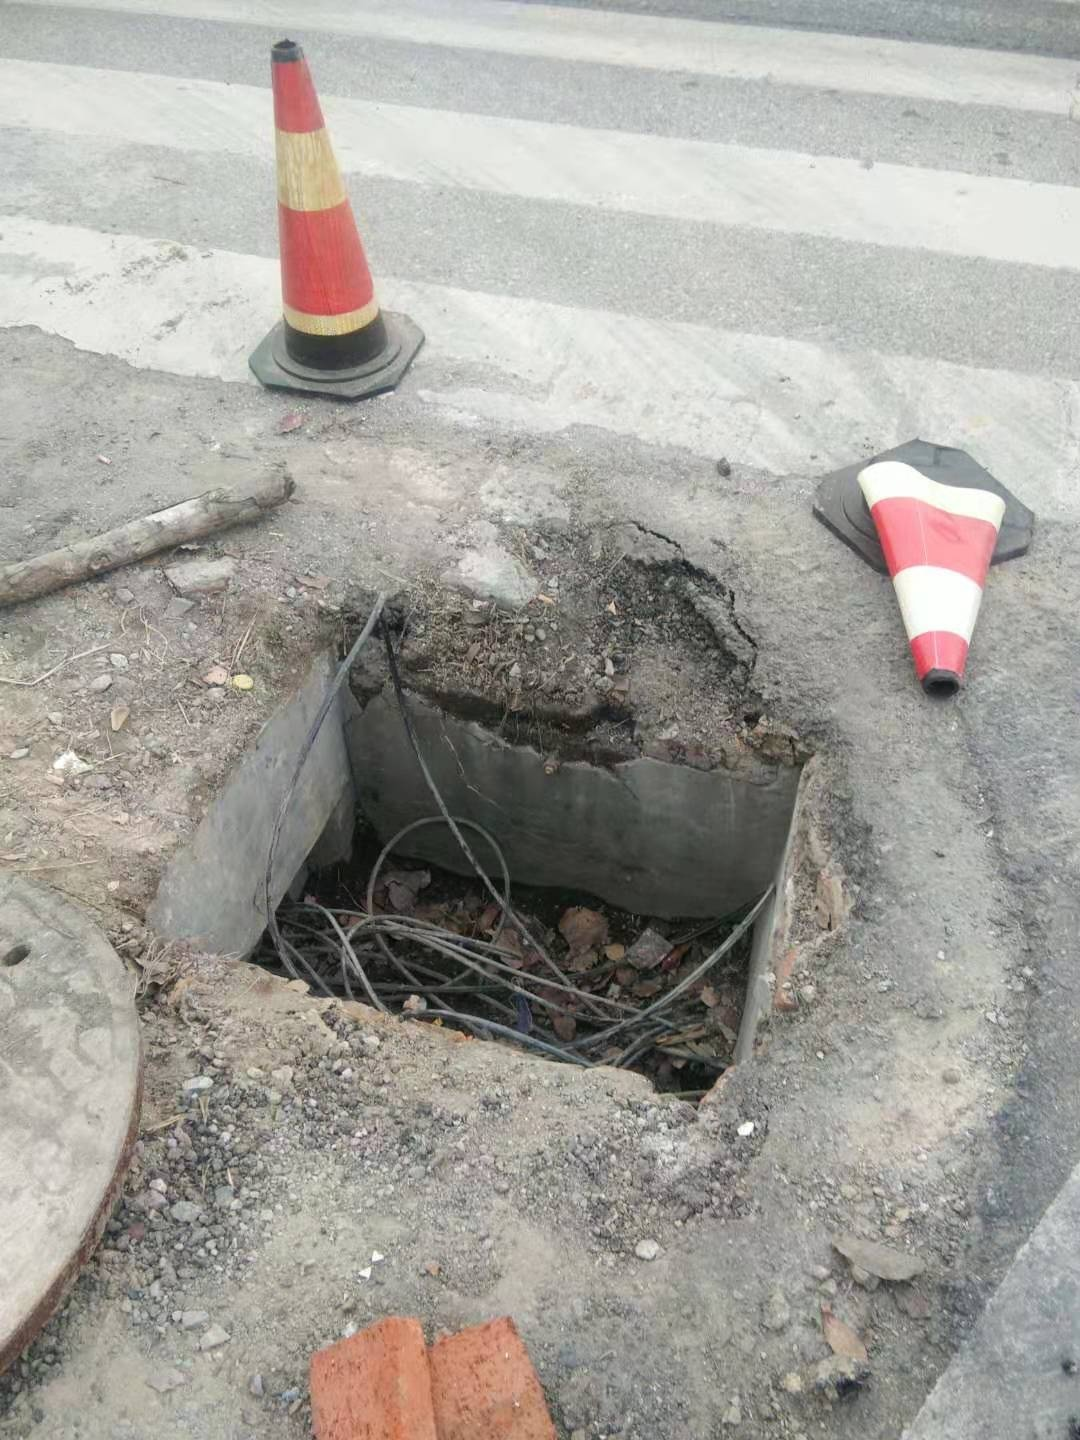lose: (137, 610, 818, 1108)
